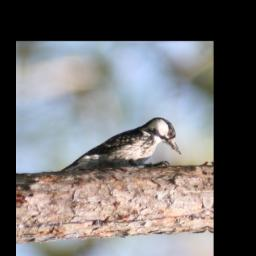Woodpecker: (53, 114, 183, 175)
